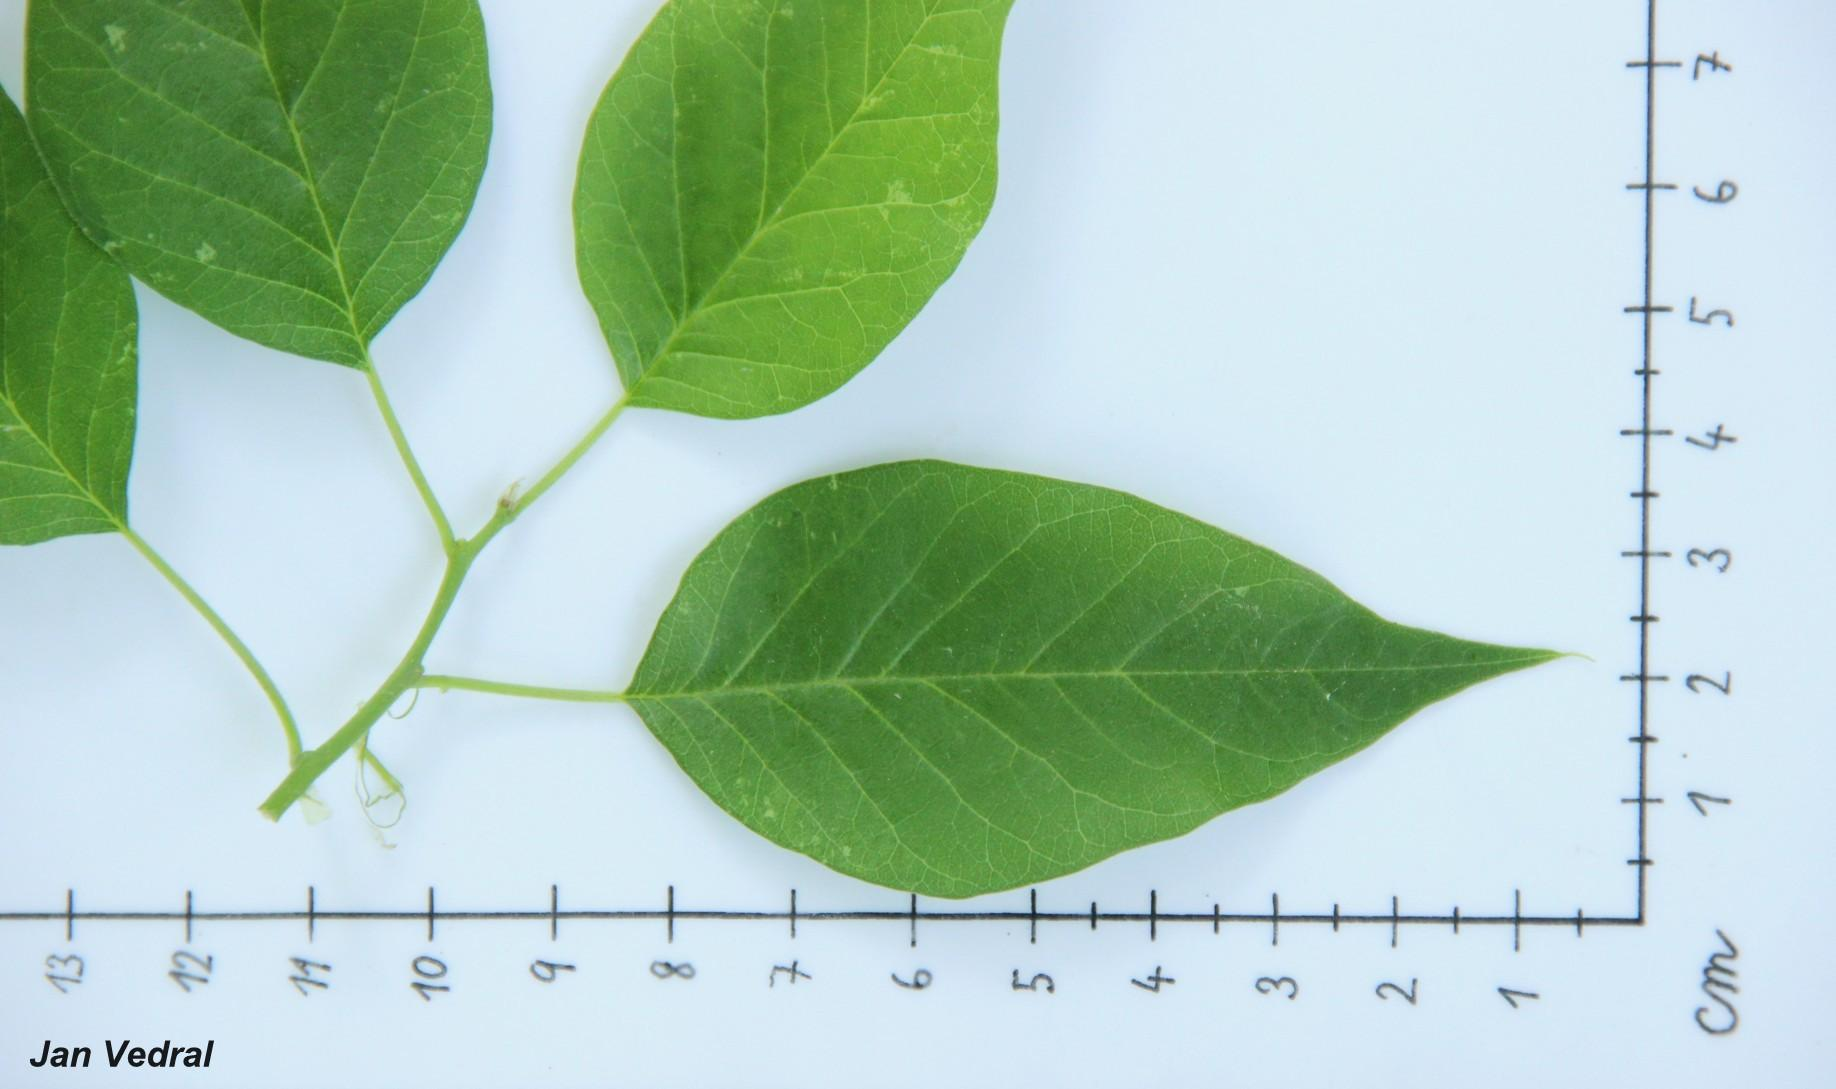Healthy Citrus: (634, 455, 1568, 897), (566, 3, 1042, 428), (17, 0, 508, 373), (0, 21, 143, 535)
